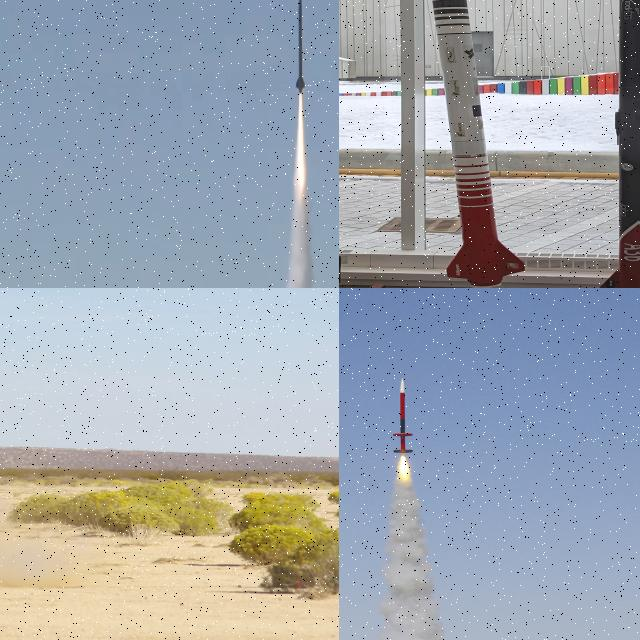Rocket: (432, 0, 525, 288), (392, 377, 413, 453), (295, 0, 305, 95)
